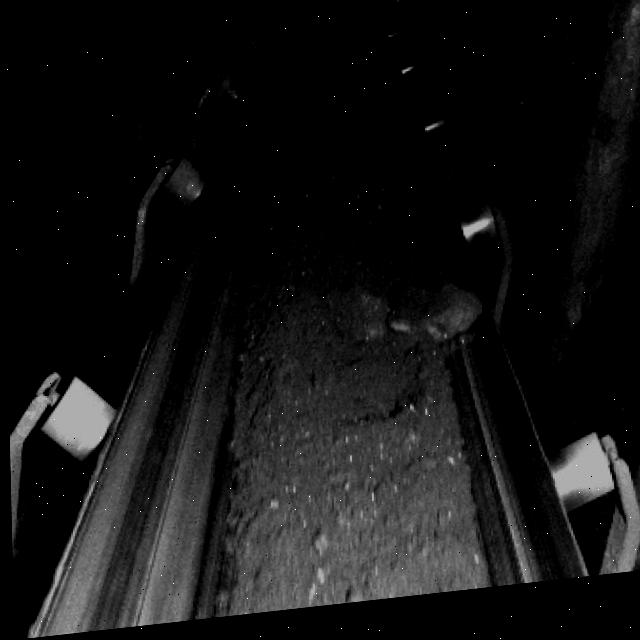large_sized_coal: (390, 282, 479, 353), (320, 289, 387, 358)
